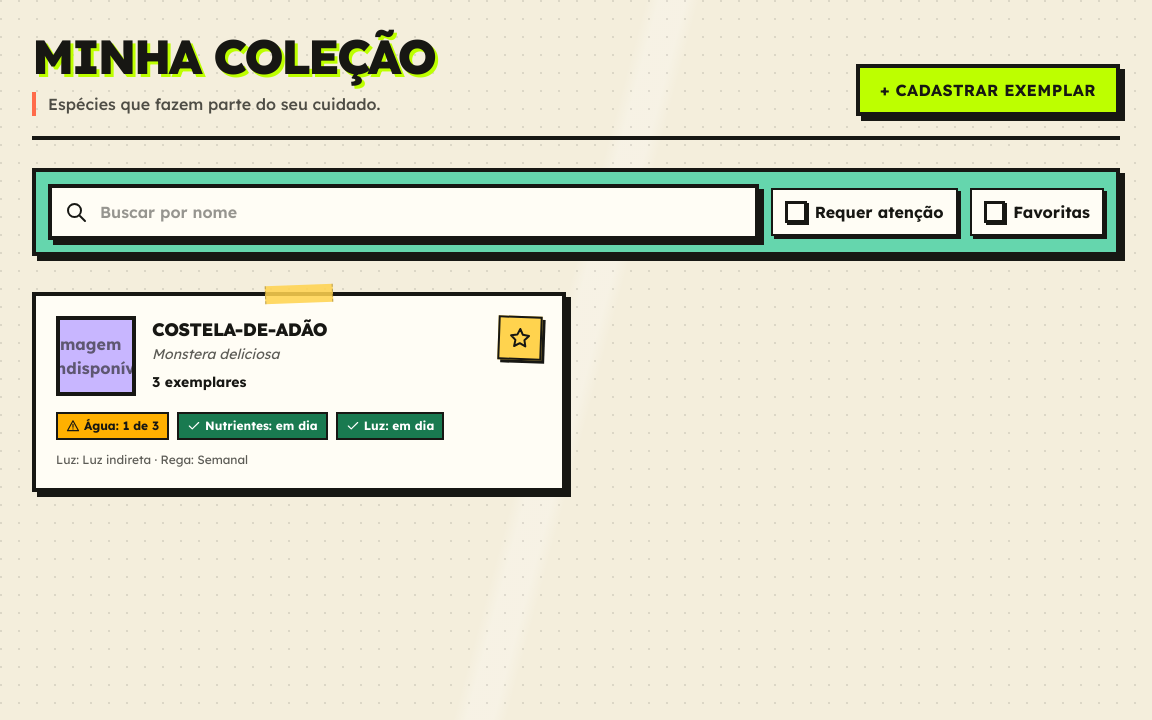
Scenario: SpecimenCatalog page › filters locally and clears an empty result state
Expected: the heading "Costela-de-adão" is shown, [152, 318, 327, 341]
In the search field labelled "Buscar por nome": [404, 212] box [48, 184, 759, 240], type "ficus"
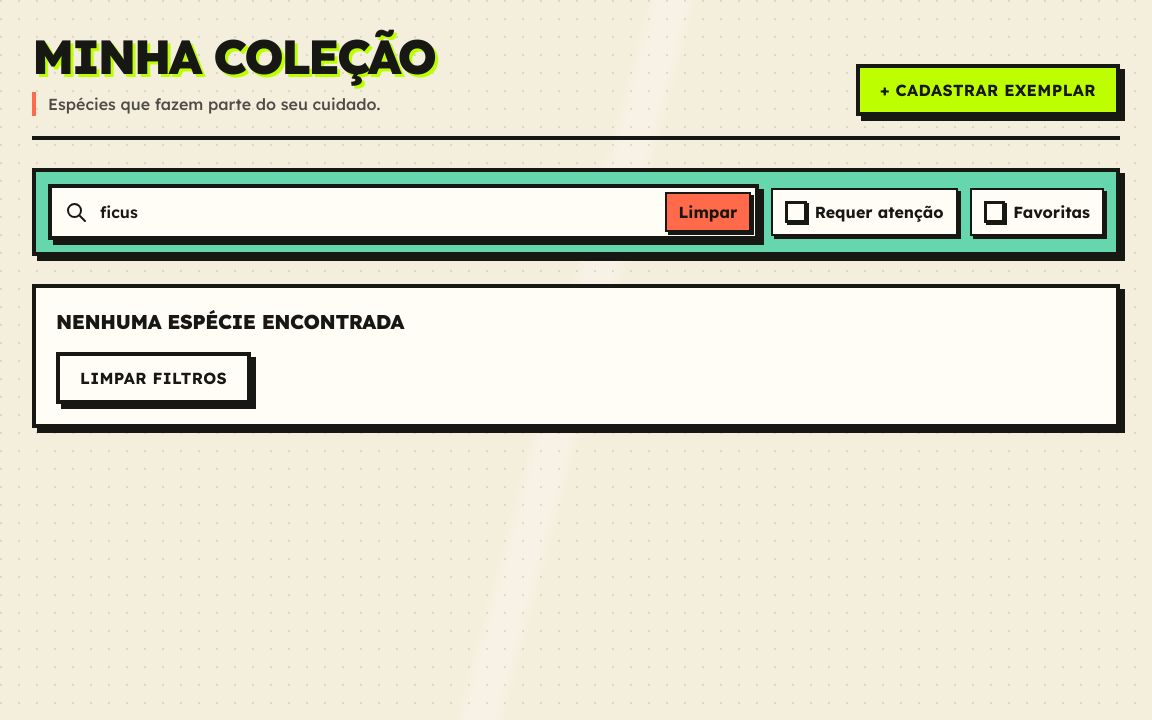
Now the heading "Nenhuma espécie encontrada" is shown, box [56, 309, 404, 334]
Click the button "Limpar filtros": [154, 378] box [56, 352, 251, 404]
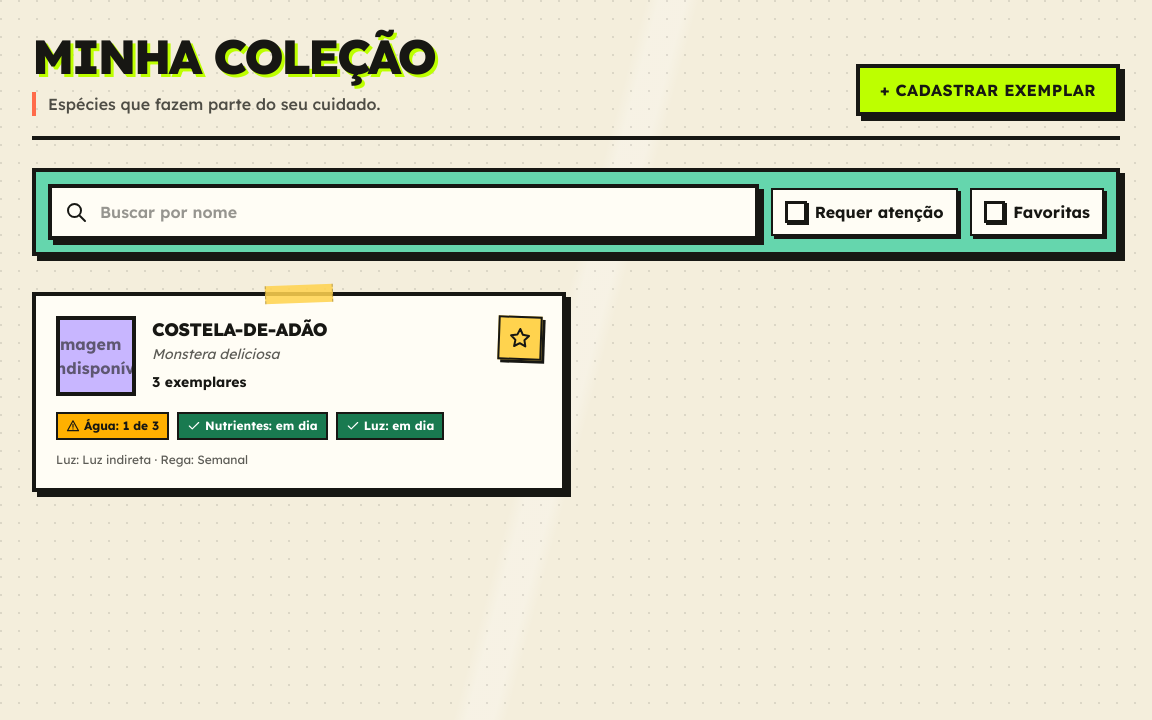
Now the heading "Costela-de-adão" is shown, box [152, 318, 327, 341]
